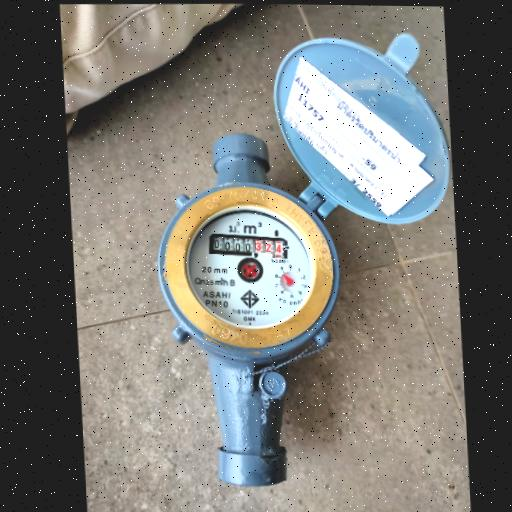0: (223, 237, 234, 251), (234, 238, 245, 252), (213, 238, 224, 251), (245, 239, 255, 253)
2: (265, 240, 275, 254)
3: (255, 239, 265, 253)
4: (275, 240, 285, 259)
border_water_meter_number: (207, 230, 291, 262)
